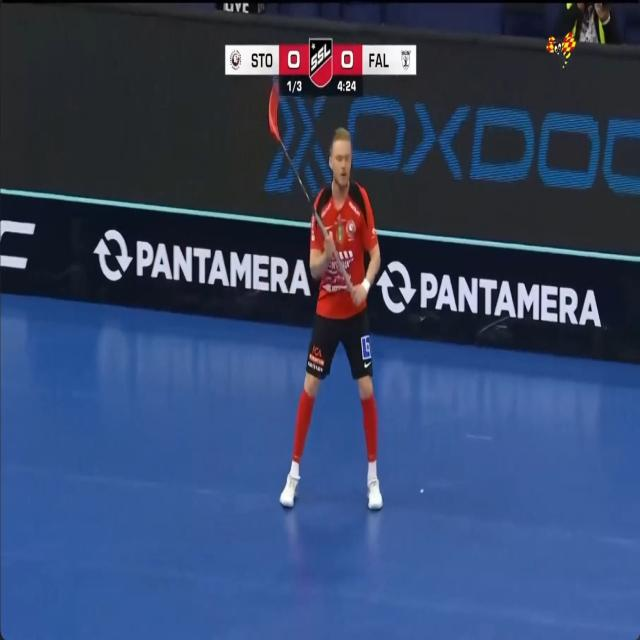player: (280, 128, 382, 509)
stick: (269, 83, 328, 238)
